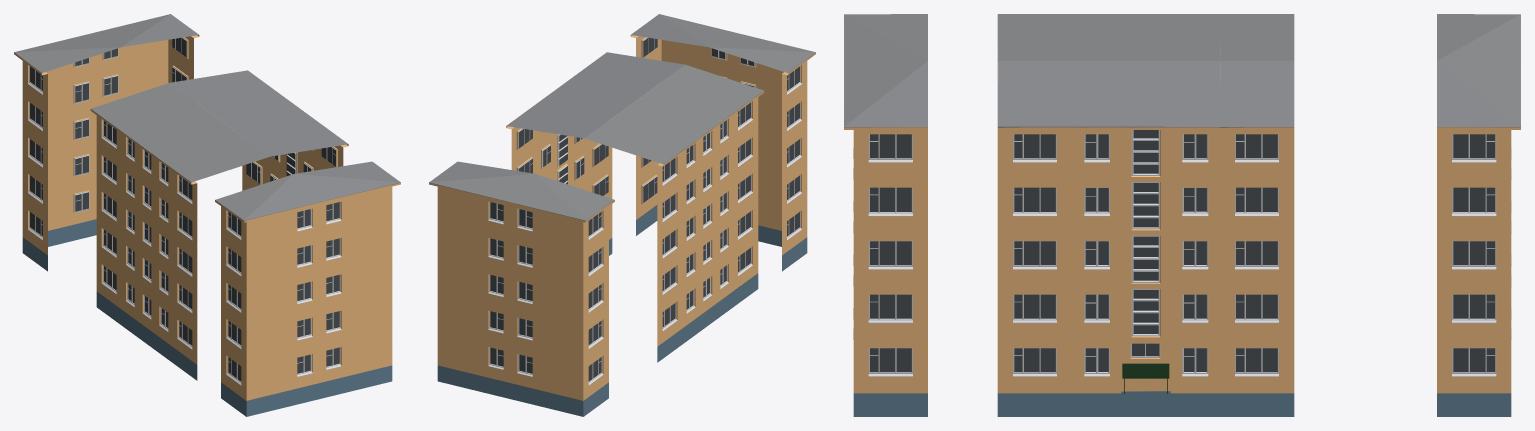
The model's file is SRH02M.FBX.
3 renders of one model, left to right at view 1: azimuth 30°, elevation 25°; view 2: azimuth 150°, elevation 25°; view 3: azimuth 270°, elevation 25°, orthographic. The views are drawn at different scales.
Visible parts, largest first — view 1: Object323, Object434, Object322; view 2: Object434, Object322, Object323; view 3: Object434, Object322, Object323.
Part boxes in pixels (<box>): Object323: <box>215,161,400,416</box>; Object434: <box>90,70,348,380</box>; Object322: <box>14,14,199,271</box>; Object434: <box>506,52,764,362</box>; Object322: <box>429,161,614,416</box>; Object323: <box>630,14,815,271</box>; Object434: <box>997,14,1294,416</box>; Object322: <box>1437,14,1520,416</box>; Object323: <box>844,14,927,416</box>.
Bounding box in the file's own units: 527 × 638 × 1288.
Materials: 1 (1 with a texture image).
